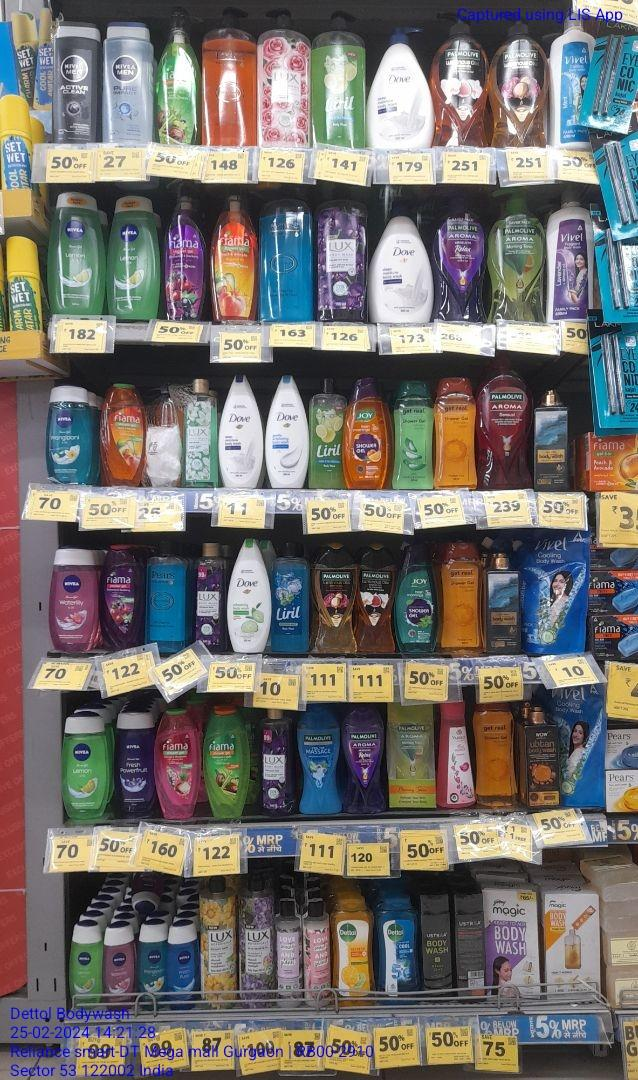Dettol_Bodywash_Cool: (376, 893, 420, 993)
Dettol_Bodywash_Refresh: (335, 897, 372, 995)
Dove_Deep_Moisture_Body_Wash_250ML: (219, 374, 264, 488)
Dove_Gentle_Exfoliating_Body_Wash_250ML: (266, 376, 309, 489)
Dove_Refreshing_Body_Wash_250ML: (229, 540, 273, 651)
Fiama_Shower_Gel_Lemongrass_and_Jojoba_250ML: (204, 704, 247, 816)
Fiama_Shower_Gel_Patchouli_and_Macadamia_250ML: (159, 704, 197, 820)
Get_Real_Shower_Gel_Moisturising_Glycerin_300ML: (441, 542, 483, 654), (476, 704, 518, 811), (437, 377, 475, 489)
Joy_Shower_Gel_Mandarin_and_Lemongrass_250ML: (345, 377, 386, 489)
Joy_Shower_Gel_Mint_and_Eucalyptus_250ML: (397, 544, 437, 653)
Liril_Cooling_Mint_Body_Wash_250ML: (276, 540, 312, 654)
Liril_Lime_and_Tea_Tree_Oil_Body_Wash_250ML: (312, 377, 343, 489)
Lux_Black_Orchid_Scent_and_Juniper_Oil_Body_Wash_245ML: (260, 710, 296, 817), (196, 542, 225, 652)
Lux_Body_Wash_Skin_Detox_Freesia_Scent_and_Alove_Vera_245ML: (184, 378, 217, 488)
Nivea_Shower_Gel_Frangipani_and_Oil_250ML: (46, 381, 90, 486)
Nivea_Shower_Gel_Fresh_Powerfruit_250ML: (114, 710, 153, 816)
Nivea_Shower_Gel_Lemon_and_Oil_250ML: (49, 192, 105, 313), (108, 194, 156, 322), (62, 716, 108, 822)
Nivea_Shower_Gel_Waterlily_and_Oil_250ML: (50, 551, 96, 651)
Palmolive_Aroma_Moments_Feel_The_Massage_Shower_Gel_250ML: (298, 708, 344, 815)
Palmolive_Aroma_Relax_250ML: (346, 705, 387, 813)
Palmolive_Luminous_Oils_Invigorating_Macadamia_Oil_With_Peony_250ML: (314, 545, 357, 654)
Palmolive_Luminous_Oils_With_White_Orchid_Shower_Gel_250ML: (360, 543, 395, 651)
Pears_Pure_Glycerin_and_Mint_Extracts_Body_Wash_250ML: (148, 543, 188, 654)
